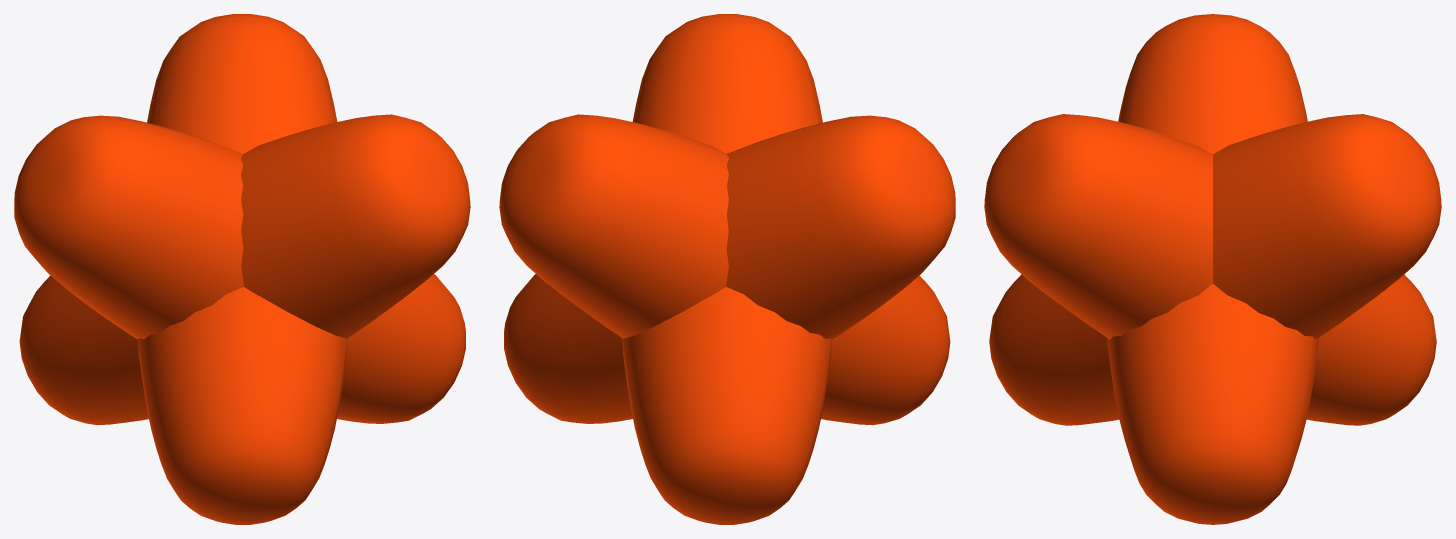
3 renders of one model, left to right at view 1: azimuth 30°, elevation 25°; view 2: azimuth 150°, elevation 25°; view 3: azimuth 270°, elevation 25°, orthographic.
Parts seen in each view (by area): view 1: Line01_PIVOT; view 2: Line01_PIVOT; view 3: Line01_PIVOT.
Part boxes in pixels (x1,y1,x2,y2): Line01_PIVOT: (14,14,470,524); Line01_PIVOT: (499,14,955,524); Line01_PIVOT: (984,14,1441,524).
Bounding box in the file's own units: 30.51 × 28.22 × 24.77.
